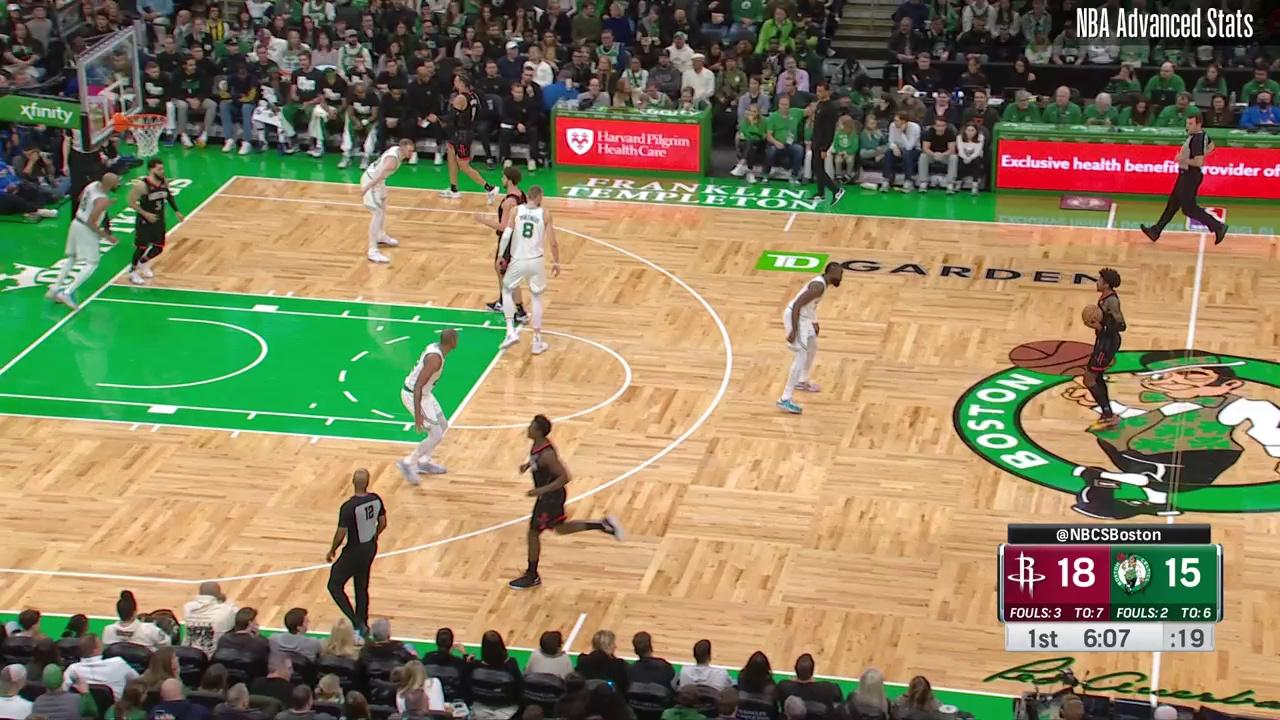3_dx: (211, 190, 221, 199)
b_dx: (230, 171, 242, 183)
free_bdx: (104, 280, 113, 289)
half_dx: (1198, 229, 1210, 239)
mid_dx: (780, 227, 791, 236)
mid_sx: (579, 608, 588, 617)
referee: (1139, 116, 1226, 246), (325, 468, 389, 642)
team: (779, 257, 847, 414), (45, 171, 120, 311), (397, 327, 461, 486), (498, 189, 556, 357), (358, 136, 420, 265)
team1: (506, 414, 625, 591), (1081, 267, 1127, 435), (479, 168, 529, 322), (127, 158, 185, 290), (443, 73, 500, 206)
timer: (1077, 620, 1130, 652)
